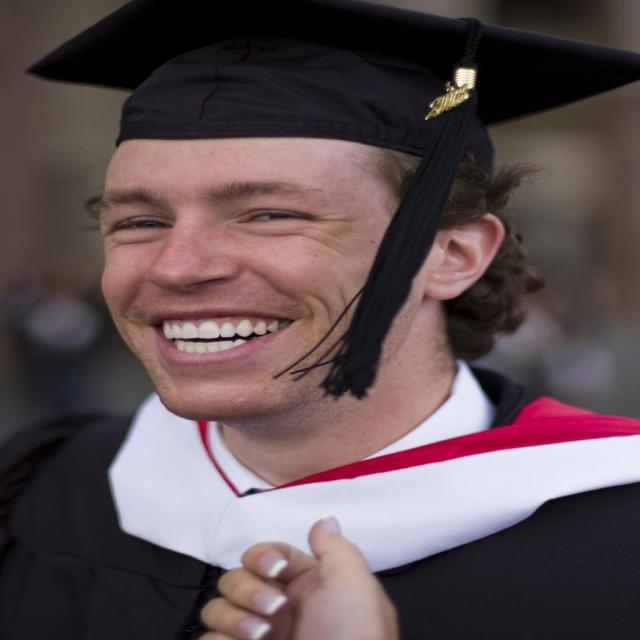no-glass: (101, 201, 331, 234)
